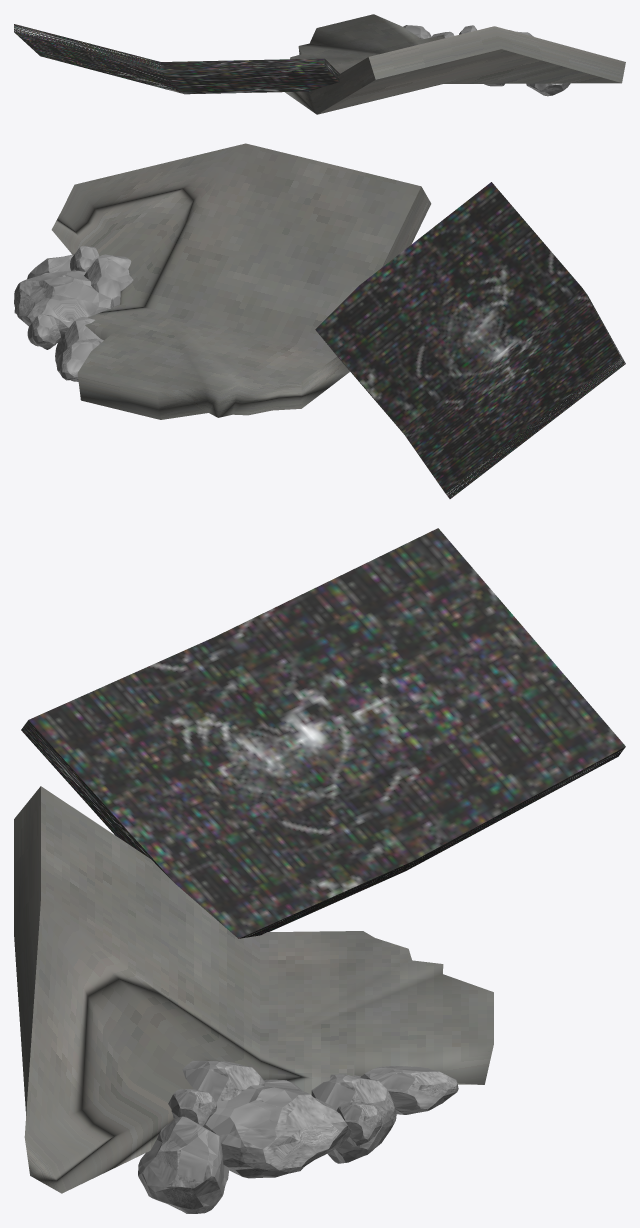
File: molozlar.fbx
3 views of the same model, one above another, from view 1: azimuth 30°, elevation 25°; view 2: azimuth 150°, elevation 25°; view 3: azimuth 270°, elevation 25° (orthographic). The views are drawn at different scales.
Visible parts, largest first — view 1: corridor_floor, Cube.032, Cube.033, Cube.036; view 2: corridor_floor, Cube.032, Cube.008, Cube.035, Cube.036, Cube.005, Cube.007, Cube.033, Cube.034; view 3: Cube.032, corridor_floor, Cube.008, Cube.033, Cube.007, Cube.036, Cube.035, Cube.005, Cube.034.
Boxes of the visible parts, box(x1,y1,x2,y2) form: corridor_floor: box(285, 14, 625, 114); Cube.032: box(14, 24, 339, 94); Cube.033: box(526, 83, 570, 96); Cube.036: box(403, 25, 431, 39); corridor_floor: box(51, 143, 431, 419); Cube.032: box(315, 182, 625, 498); Cube.008: box(14, 270, 114, 342); Cube.035: box(84, 254, 133, 306); Cube.036: box(56, 338, 101, 380); Cube.005: box(27, 314, 60, 349); Cube.007: box(55, 317, 103, 381); Cube.033: box(27, 254, 73, 278); Cube.034: box(70, 245, 99, 271); Cube.032: box(21, 528, 625, 938); corridor_floor: box(14, 786, 493, 1193); Cube.008: box(204, 1079, 351, 1178); Cube.033: box(138, 1116, 229, 1213); Cube.007: box(311, 1074, 396, 1163); Cube.036: box(360, 1066, 458, 1114); Cube.035: box(182, 1060, 265, 1101); Cube.005: box(336, 1102, 382, 1146); Cube.034: box(168, 1089, 216, 1126).
Size of the model in its own units: 1349 by 350 by 746.
